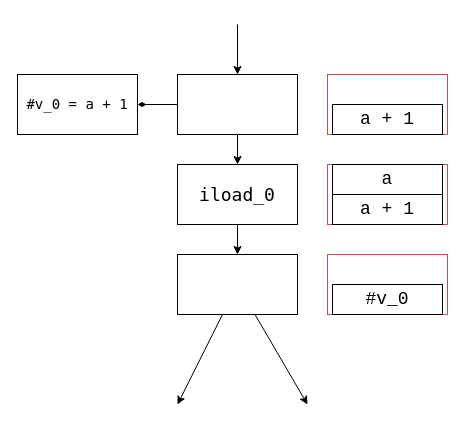
Image size: 465x430. Some labels were removed from this diagram. Here are the shapes that lost their labels. From the top down, the box of each, then its label:
(176, 74, 298, 134): iadd
(176, 254, 298, 314): ifge
